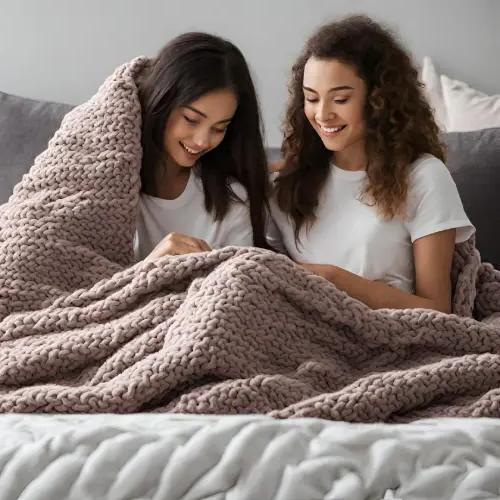blanket: (0, 54, 500, 428)
short sleeve shirt: (262, 150, 477, 296), (128, 161, 254, 268)
